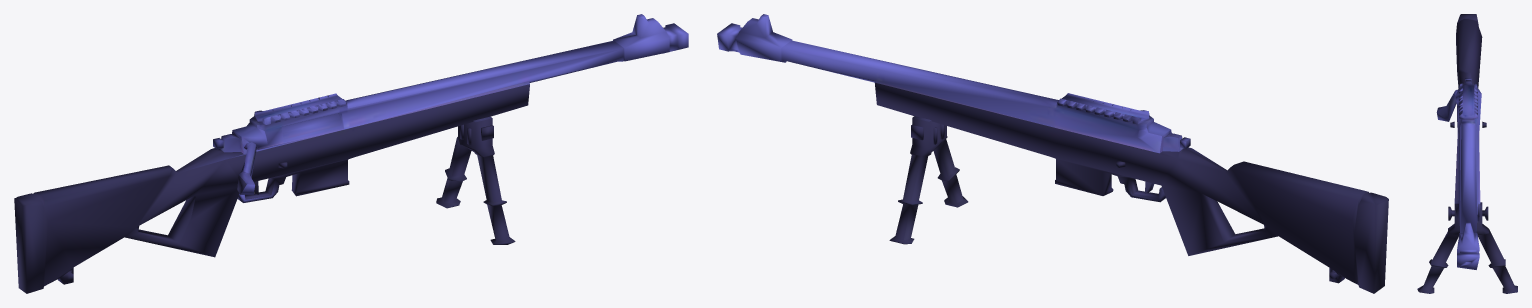
File: model.progressive.glb
3 renders of one model, left to right at view 1: azimuth 30°, elevation 25°; view 2: azimuth 150°, elevation 25°; view 3: azimuth 270°, elevation 25°, orthographic. The views are drawn at different scales.
Visible parts, largest first — view 1: material; view 2: material; view 3: material.
Boxes of the visible parts, x1,y1,x2,y2 form: material: [14, 14, 688, 293]; material: [717, 14, 1388, 293]; material: [1417, 14, 1517, 293].
Bounding box in the file's own units: 1.9 × 0.4569 × 0.3202.
1 material, 1 textured.
